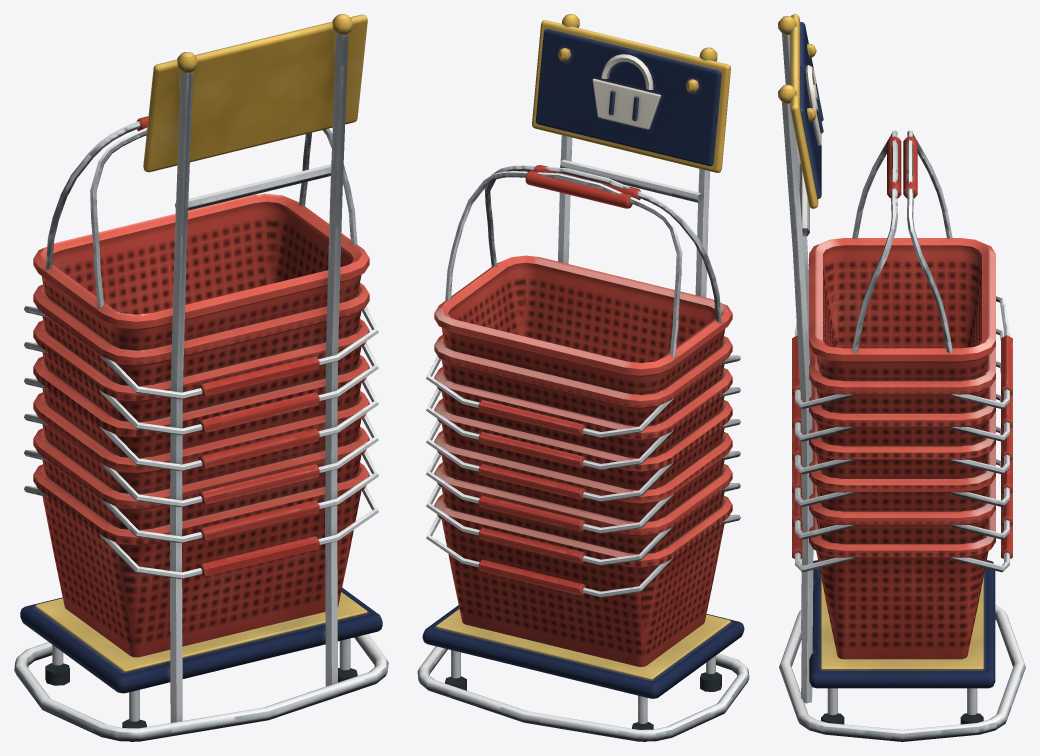
Rendered from basket-stack.fbx.
The picture shows the model from 3 angles, left to right: view 1: azimuth 30°, elevation 25°; view 2: azimuth 150°, elevation 25°; view 3: azimuth 270°, elevation 25°; orthographic projection. The views are drawn at different scales.
Parts seen in each view (by area): view 1: Body; view 2: Body; view 3: Body.
Boxes of the visible parts, left/top/right/bottom form: Body: left=14, top=14, right=388, bottom=741; Body: left=417, top=14, right=749, bottom=741; Body: left=778, top=14, right=1025, bottom=741.
Size of the model in its own units: 0.5803 by 1.2 by 0.4269.
